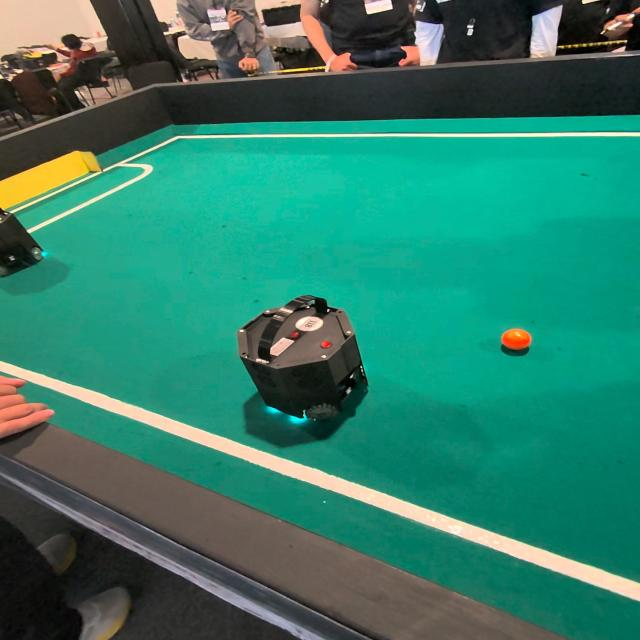Robot: (230, 289, 377, 445), (0, 188, 25, 286)
pelota: (501, 330, 534, 356)
